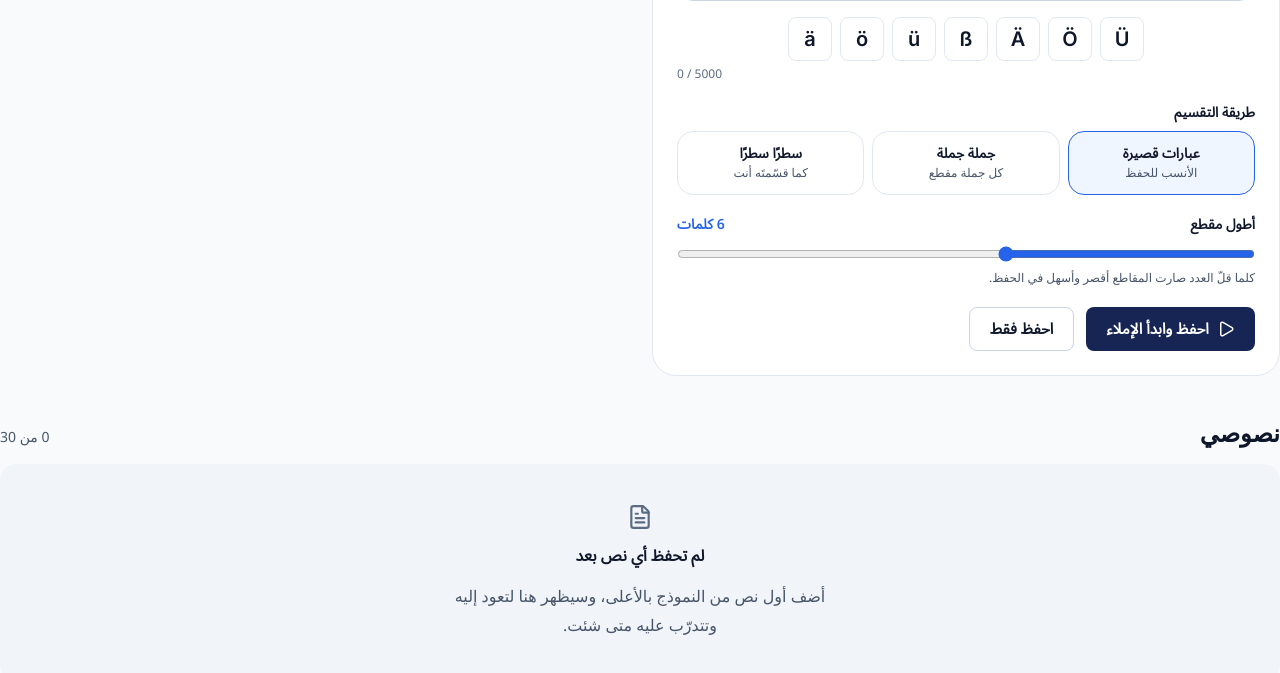
Scenario: MyTextPage › says what is wrong instead of saving an empty or non-German text
(page scrolled)
Click the button "احفظ فقط" at (1022, 329), box left=969, top=307, right=1074, bottom=351
(page scrolled)
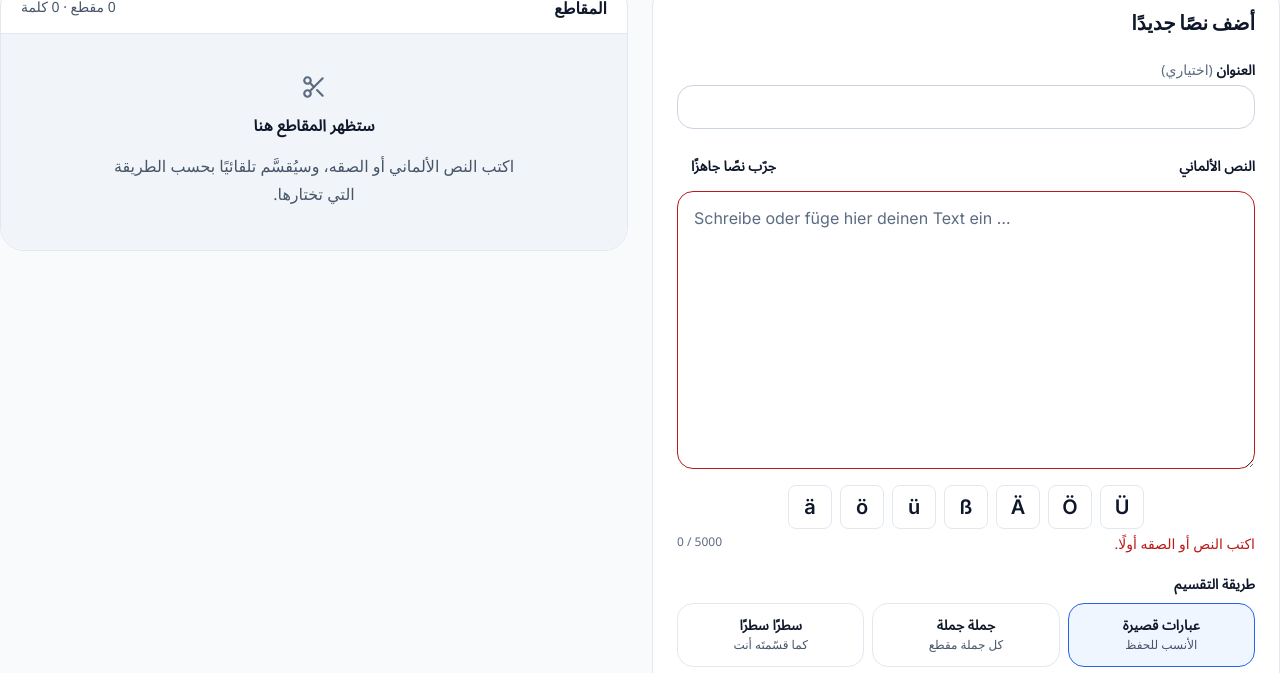
Now the message reads "اكتب النص أو الصقه أولًا.", box left=1114, top=530, right=1255, bottom=559
Click the text box labelled "النص الألماني" at (966, 330), box left=677, top=191, right=1255, bottom=469
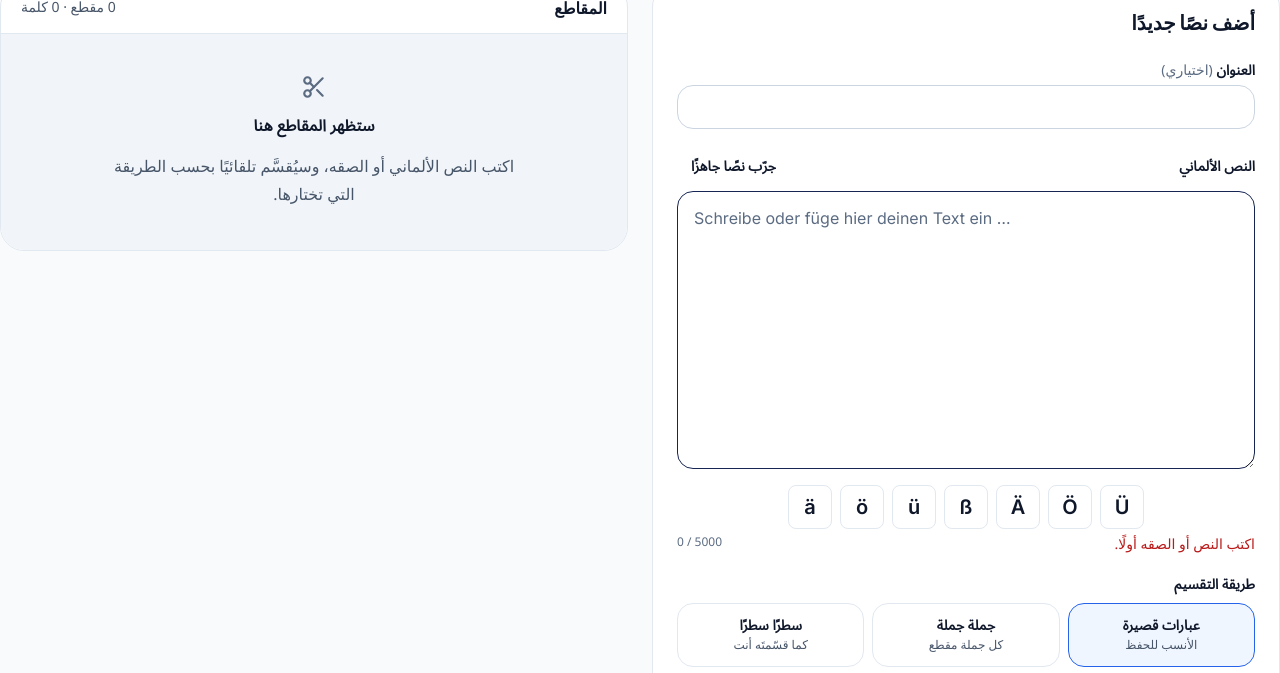
Type keys "مرحبا بكم في درس اللغة الألمانية"
(page scrolled)
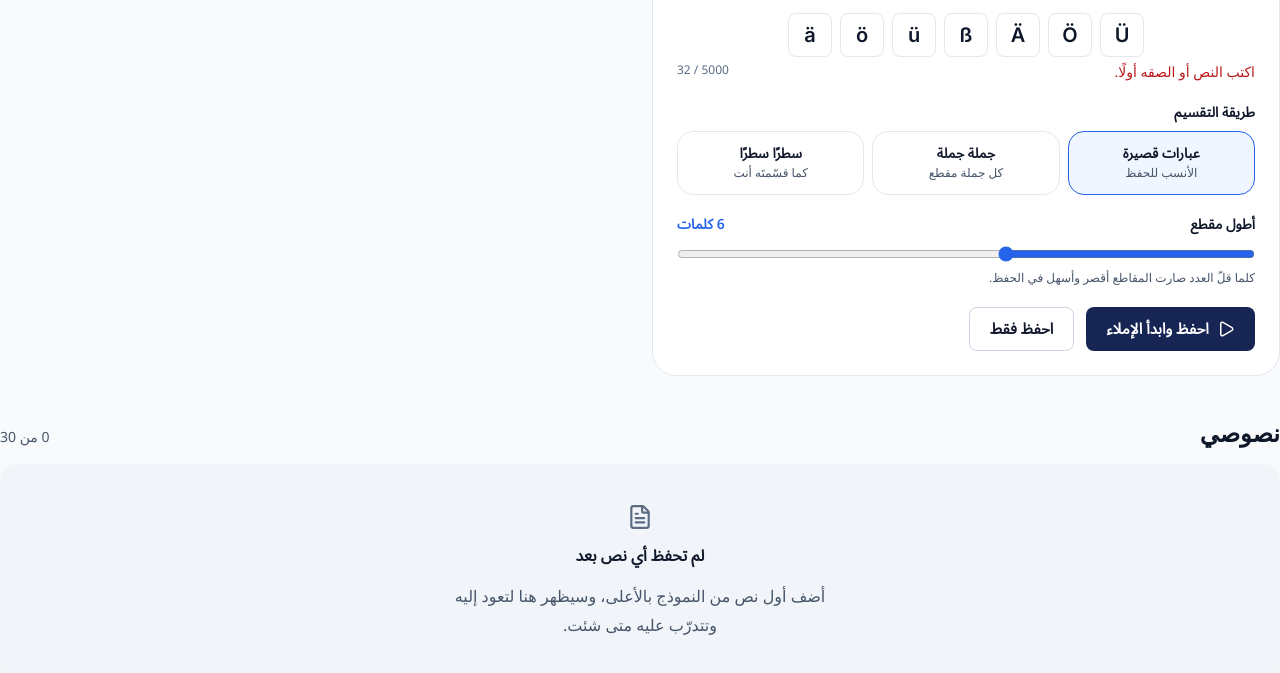
Click the button "احفظ فقط" at (1022, 329), box left=969, top=307, right=1074, bottom=351
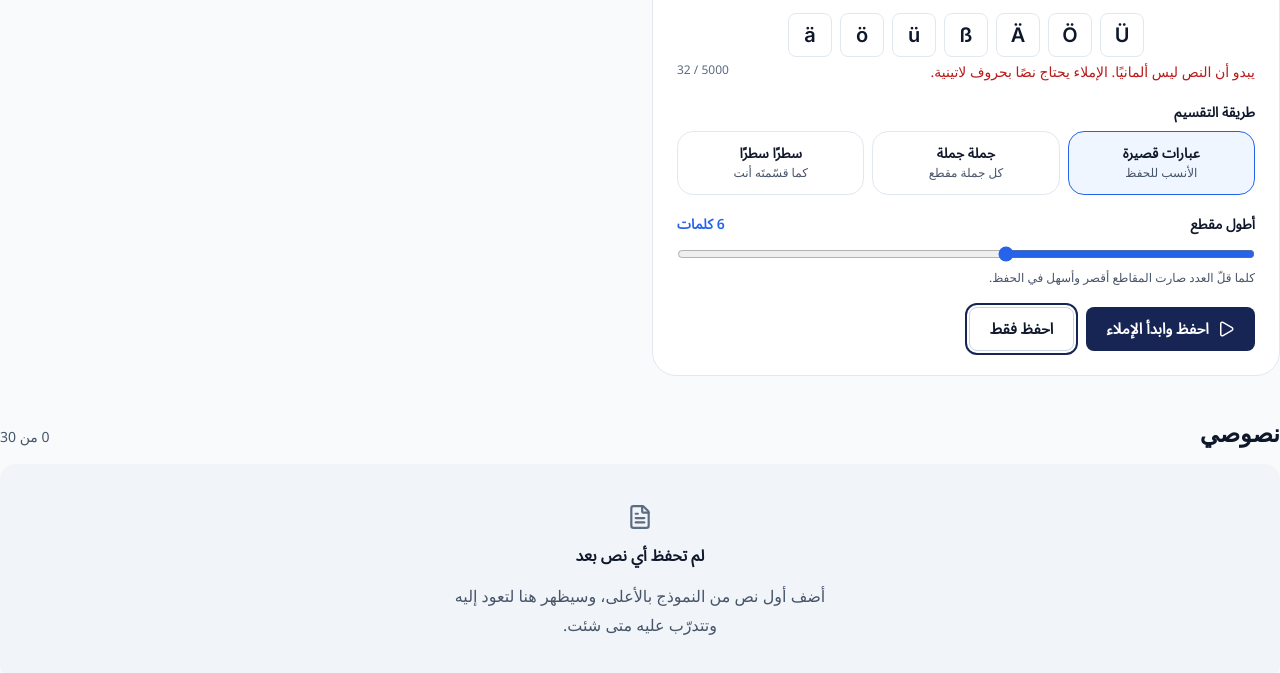
Now the message shows "ألمانيًا", box left=930, top=58, right=1255, bottom=87
